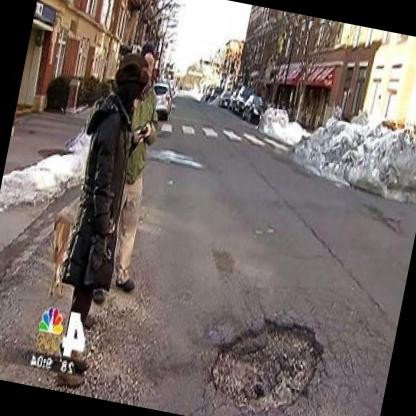pothole: (204, 302, 331, 416)
